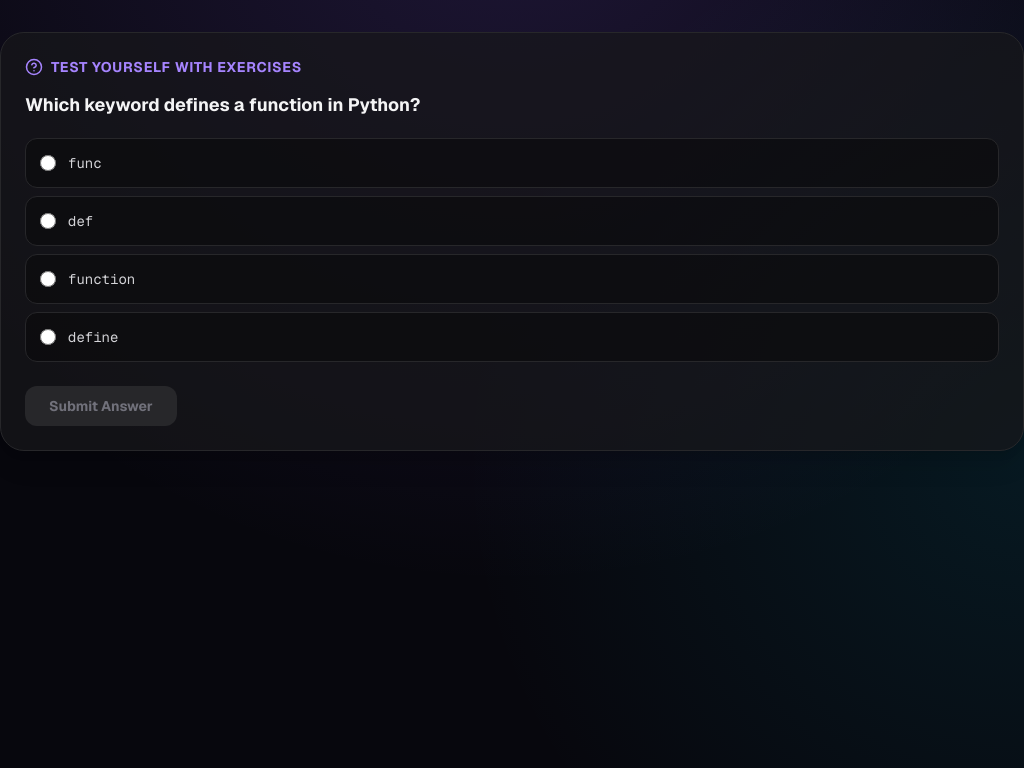
Test: W3Schools ExerciseBox Component › displays error notice on wrong answer and allows retry
// Select incorrect answer ('func')
What coordinates should you click on to do the following:
click the radio button labelled "func"
I would click on:
 (48, 163)
Its box is [40,155,56,171].
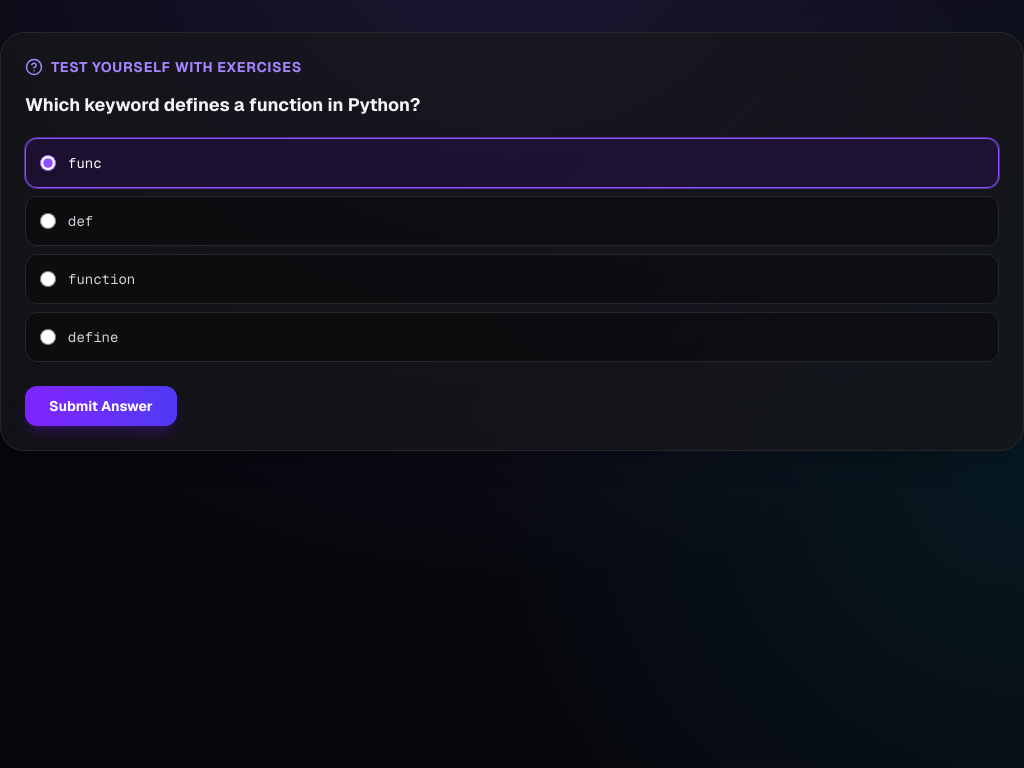
What coordinates should you click on to do the following:
click the button "Submit Answer"
I would click on:
 (101, 406)
Its box is [25,386,177,426].
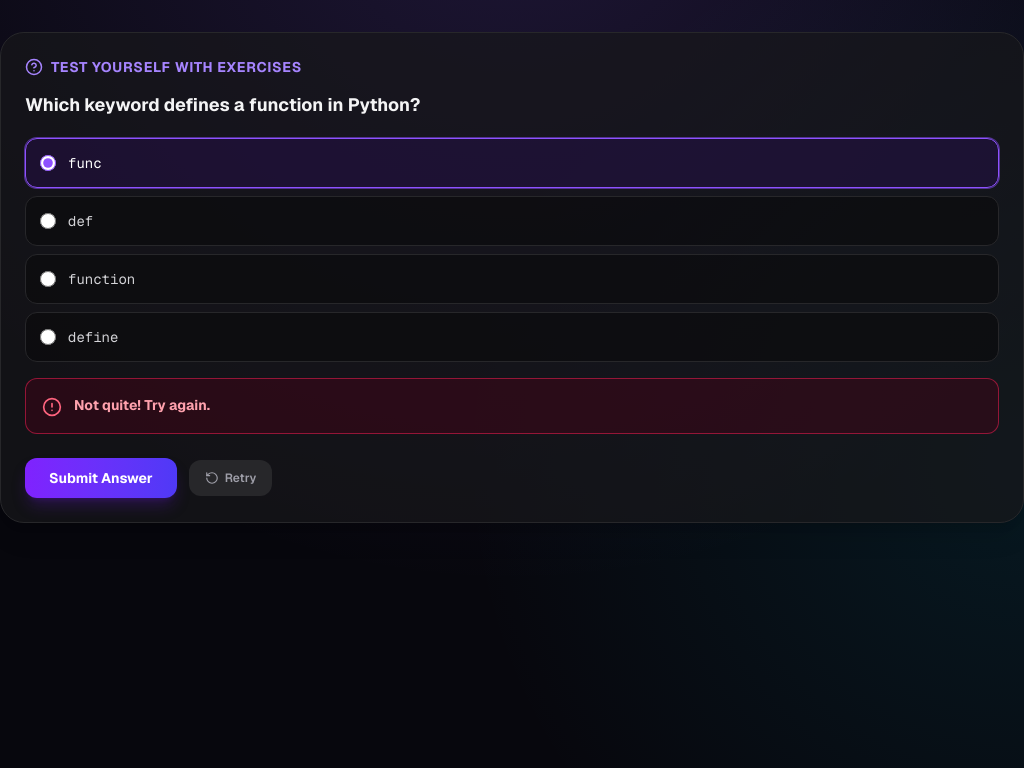
Expected: the text "Not quite! Try again." is shown, [74,396,210,414]
